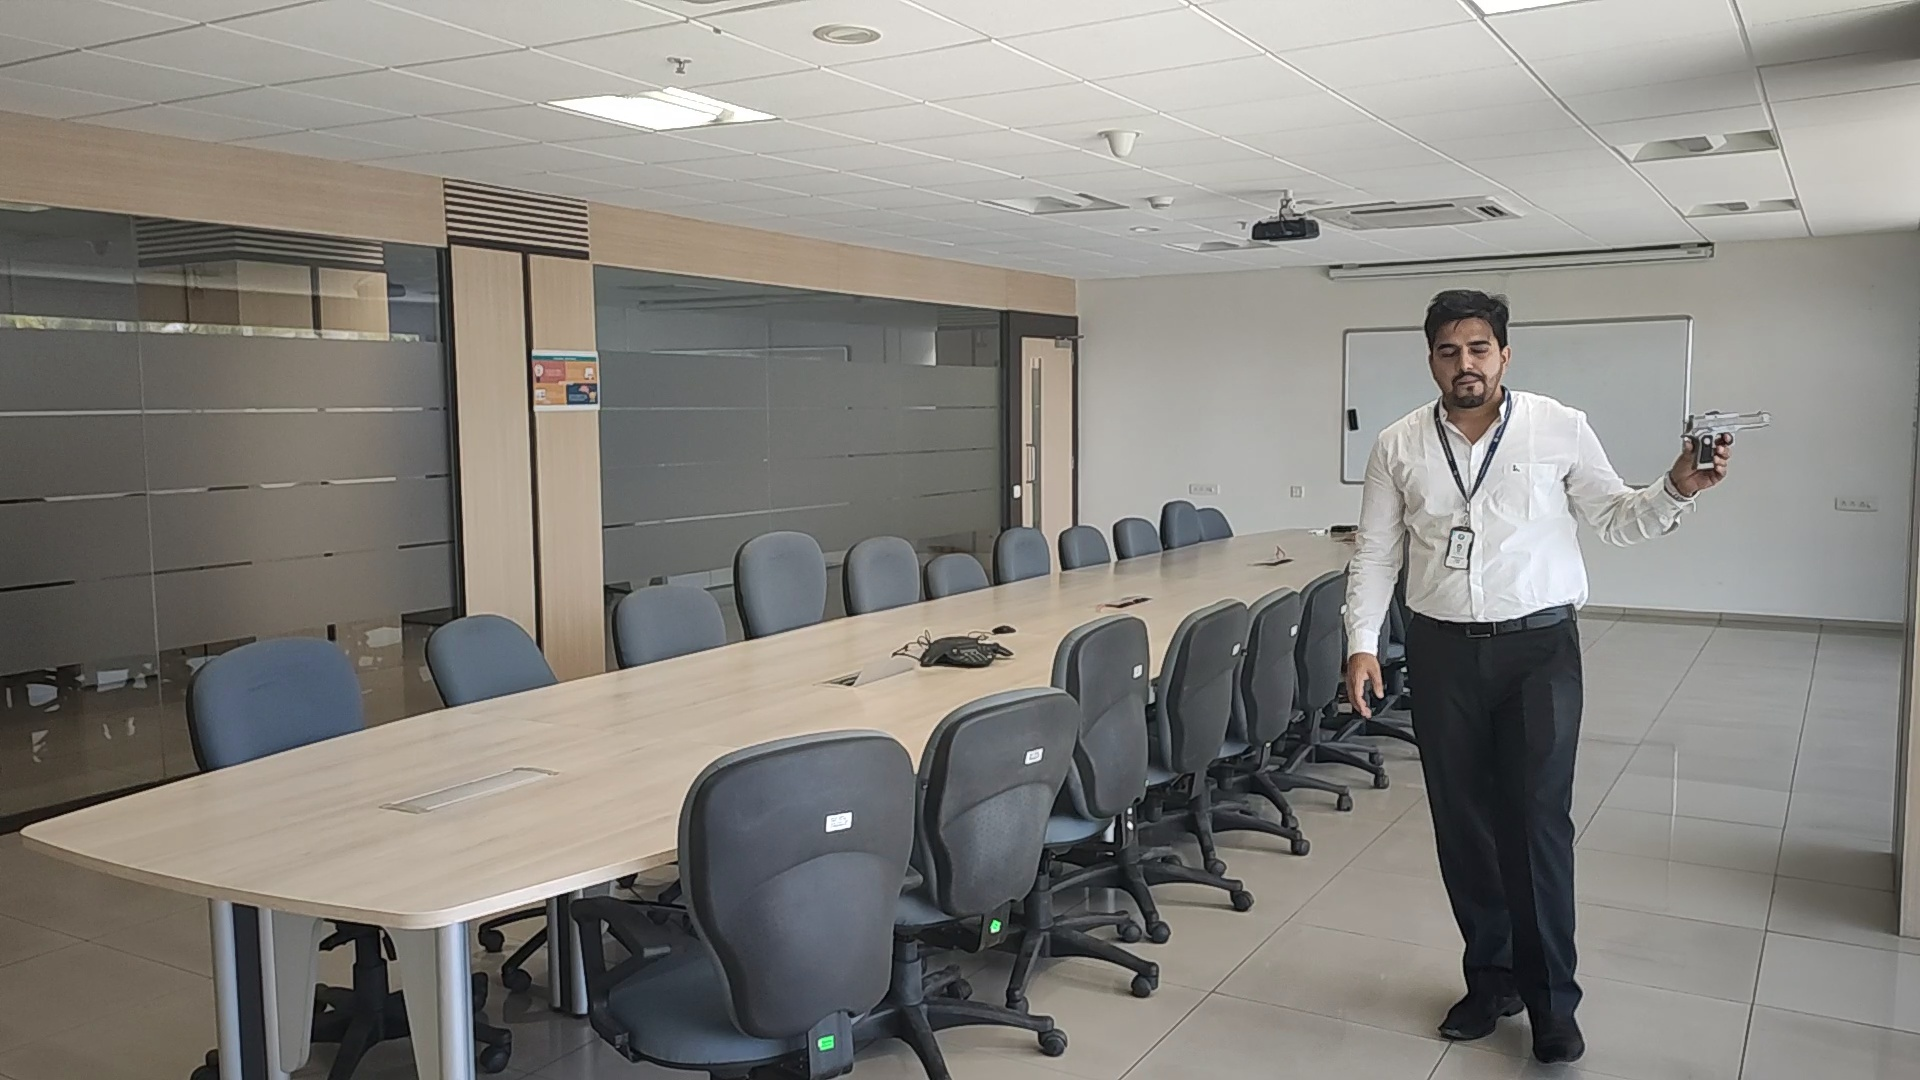gun: (1681, 410, 1772, 440)
